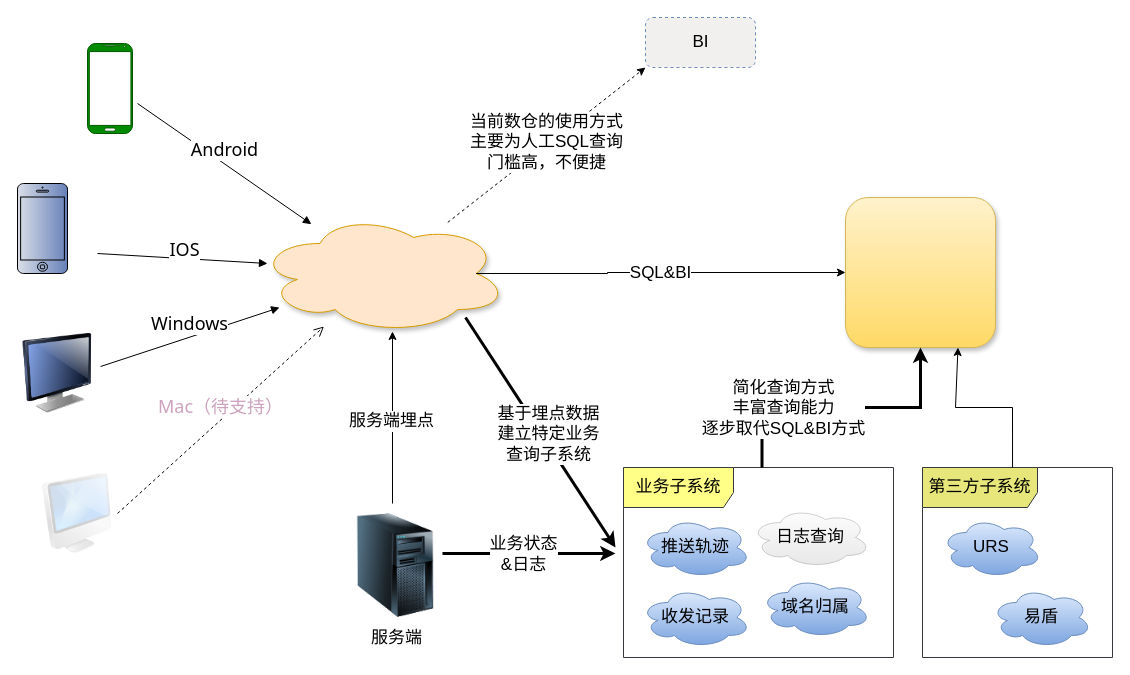
This 1130x675 diagram has some shape labels left out. Here are the shapes that lost their labels. From the top down, the centre of each, then its label:
At pixel 383 274: "埋点数仓".
At pixel 921 273: "异常查询平台 （重明系统）".
